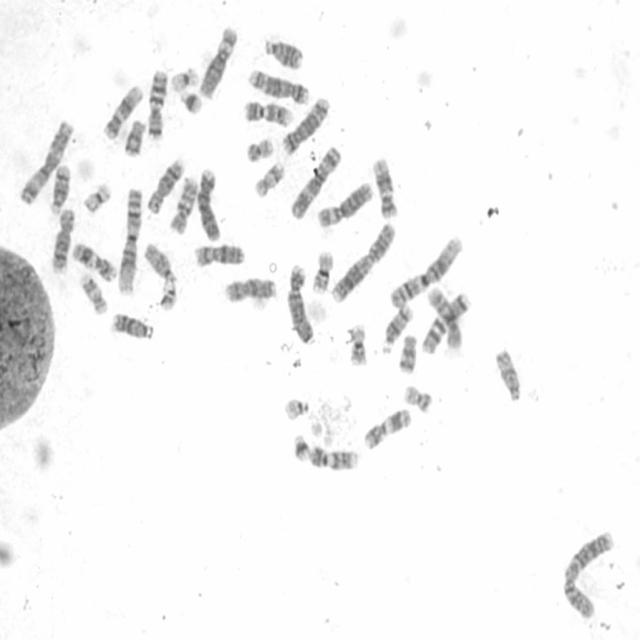A1: (386, 230, 465, 309), (115, 183, 144, 297)
A2: (328, 218, 397, 304), (559, 525, 616, 621)
A3: (16, 115, 76, 206), (286, 141, 344, 220)
B4: (285, 260, 317, 345), (195, 163, 222, 242)
B5: (279, 91, 332, 155), (245, 63, 311, 105)
C10: (423, 282, 466, 352), (166, 171, 200, 235)
C11: (361, 403, 414, 452), (70, 238, 118, 283)
C12: (101, 80, 145, 140), (370, 153, 400, 220)
C6: (196, 21, 239, 98), (315, 177, 374, 228)
C7: (420, 286, 471, 354), (145, 64, 170, 140)
C8: (143, 152, 186, 215), (49, 204, 77, 275)
C9: (240, 95, 295, 128), (306, 440, 361, 472)
D13: (108, 308, 156, 341), (262, 33, 304, 70)
D14: (378, 300, 414, 355), (47, 160, 72, 214)
D15: (492, 344, 524, 403), (141, 238, 178, 284)
E16: (308, 246, 336, 295), (345, 320, 370, 367)
E17: (77, 269, 110, 316), (251, 156, 286, 198)
E18: (121, 115, 148, 158), (395, 329, 419, 375)
F19: (80, 177, 113, 215), (167, 61, 200, 94)
F20: (401, 379, 434, 414), (243, 133, 276, 163)
G21: (177, 85, 205, 115), (290, 428, 313, 462)
G22: (281, 393, 311, 421), (156, 274, 176, 312)
X: (222, 272, 279, 304), (192, 239, 247, 268)
